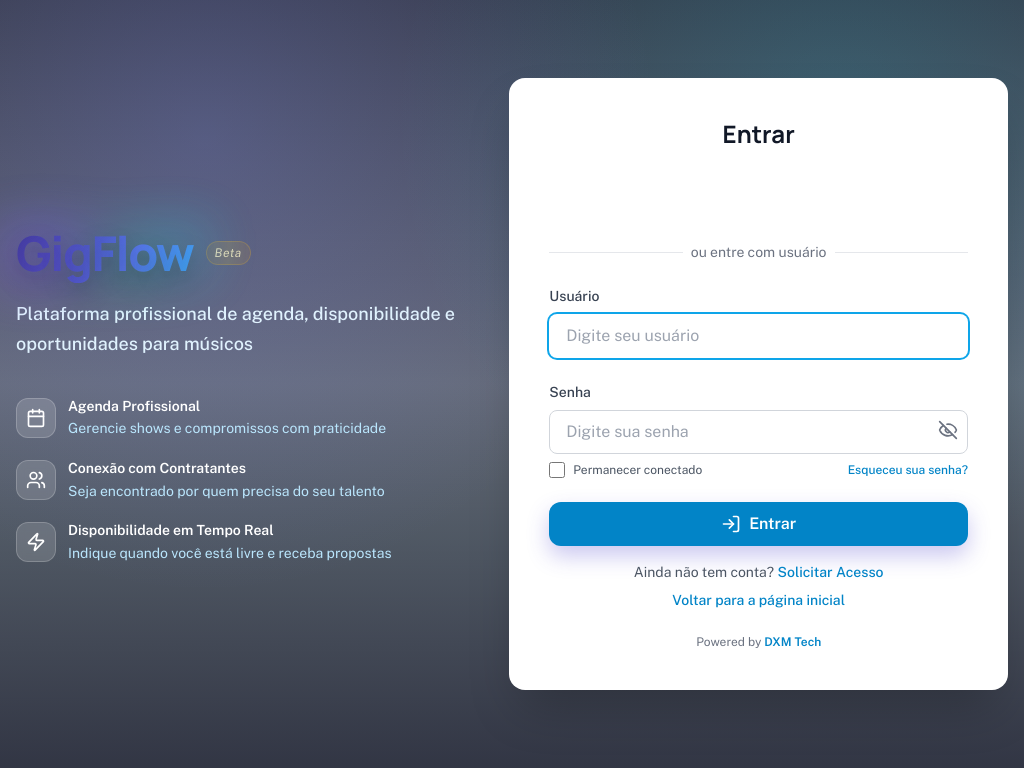
Test: Login page › exibe mensagem de erro ao receber 401
Type "joao" into the field labelled "Usuário" at (759, 336), box left=549, top=314, right=968, bottom=358
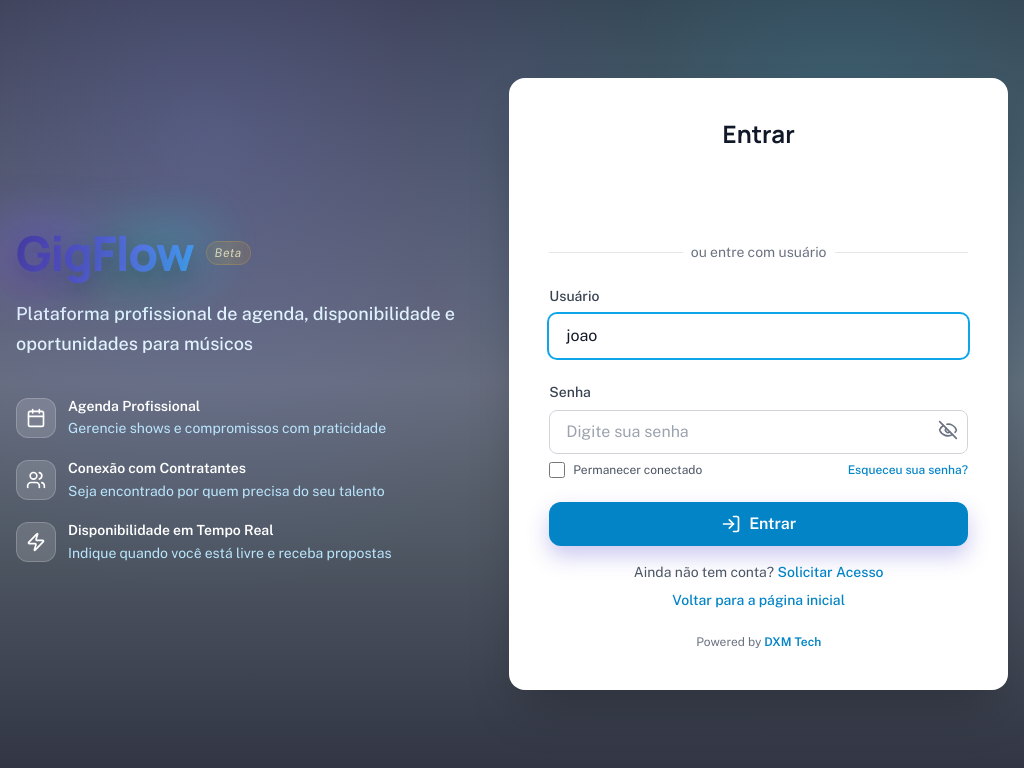
Type "errada" into the password field labelled "Senha" at (759, 432), box left=549, top=410, right=968, bottom=454
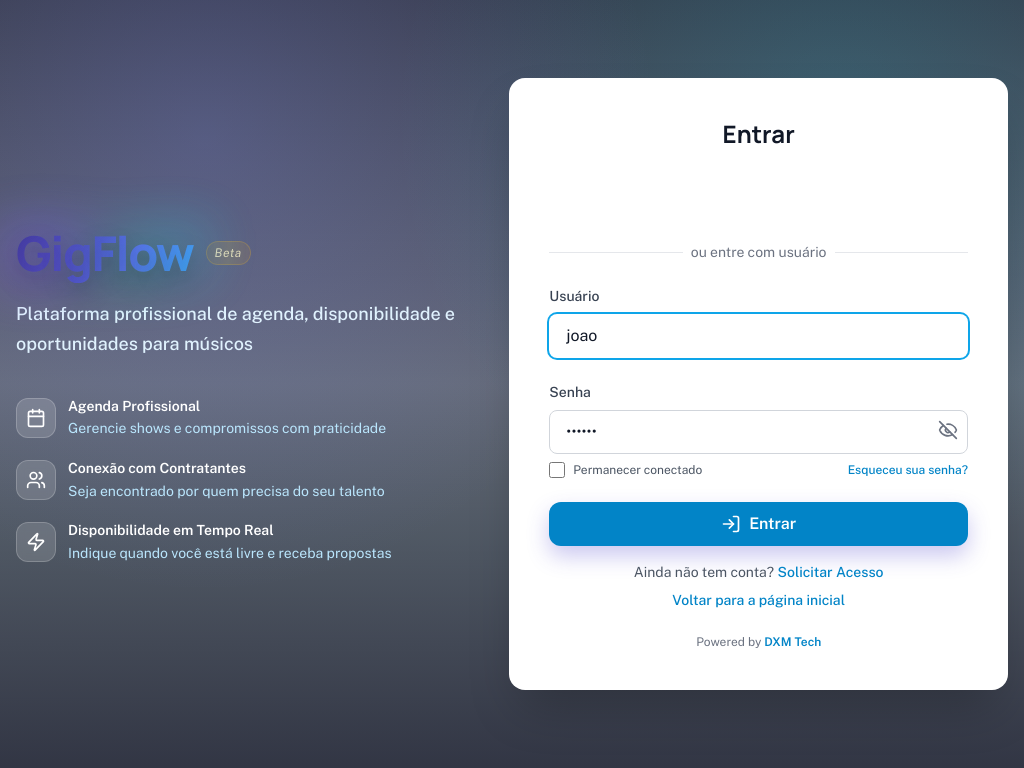
Click the button "Entrar" at (759, 524), box left=549, top=502, right=968, bottom=546
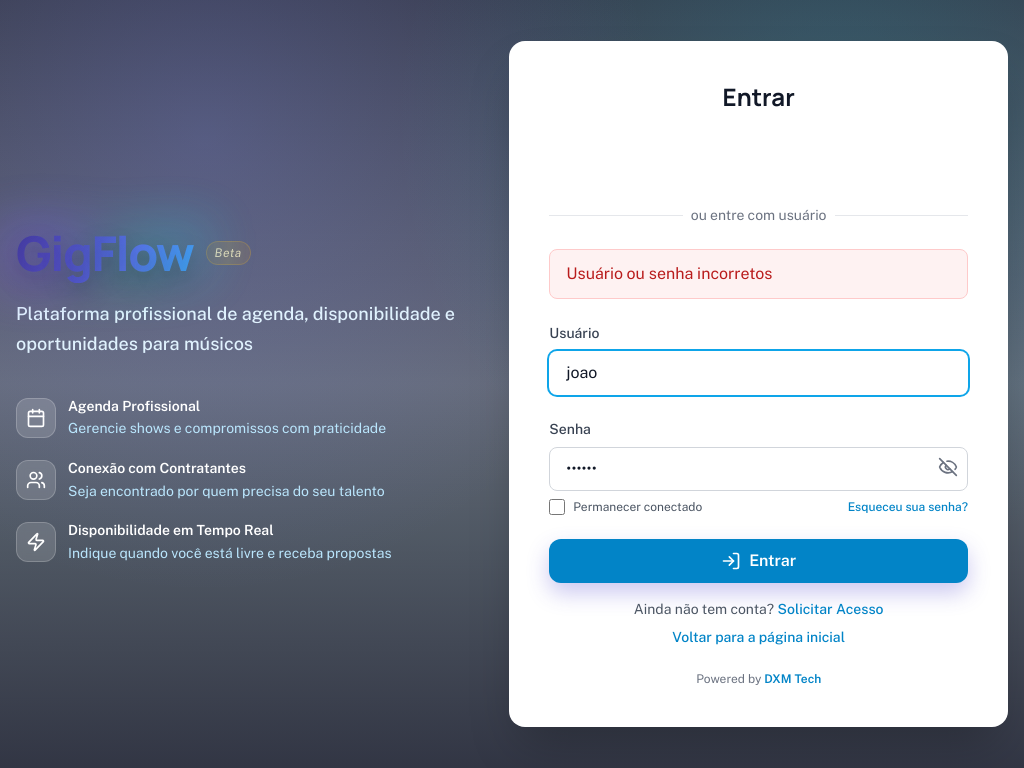
Now the text "Usuário ou senha incorretos" is shown, box left=549, top=249, right=968, bottom=299
